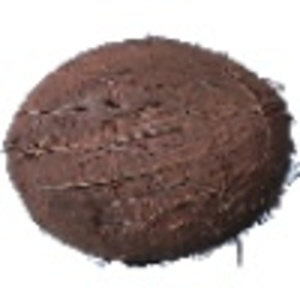coco: (5, 37, 300, 269)
